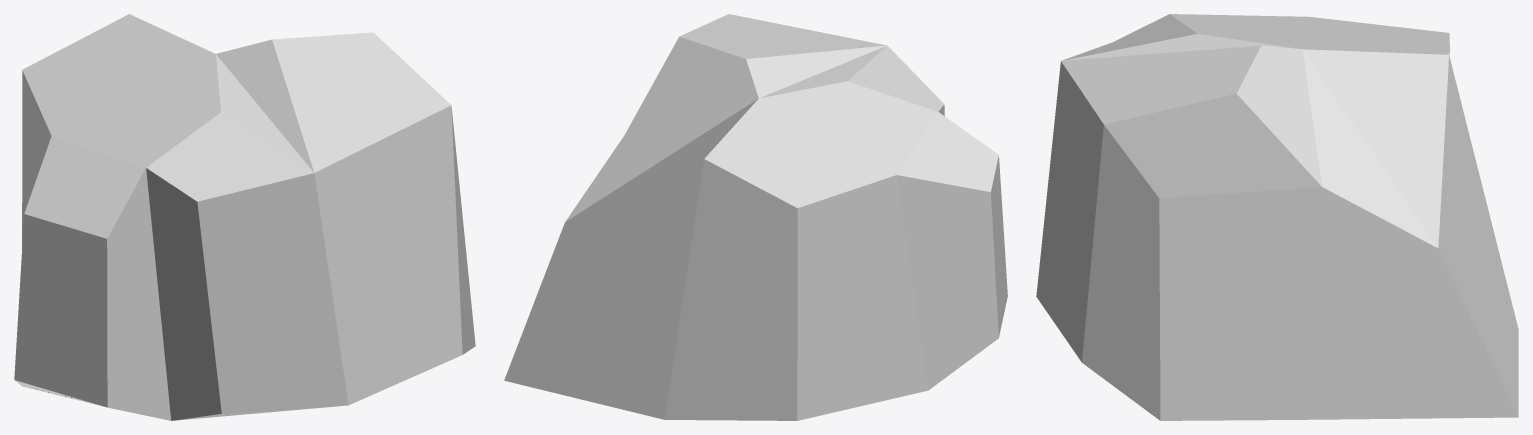
The model's file is rock-004.gltf.
3 renders of one model, left to right at view 1: azimuth 30°, elevation 25°; view 2: azimuth 150°, elevation 25°; view 3: azimuth 270°, elevation 25°, orthographic. The views are drawn at different scales.
Parts seen in each view (by area): view 1: Rock.004; view 2: Rock.004; view 3: Rock.004.
Part boxes in pixels (x1=…): Rock.004: x1=14, y1=14, x2=475, y2=420; Rock.004: x1=504, y1=14, x2=1007, y2=420; Rock.004: x1=1036, y1=14, x2=1518, y2=420.
Bounding box in the file's own units: 1.84 × 1.27 × 1.84.
1 material, 1 textured.
